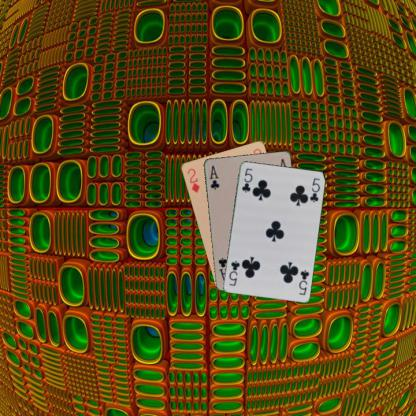2d: (184, 166, 200, 194)
5c: (296, 267, 310, 296), (239, 166, 254, 193)
Ac: (207, 163, 220, 191)
